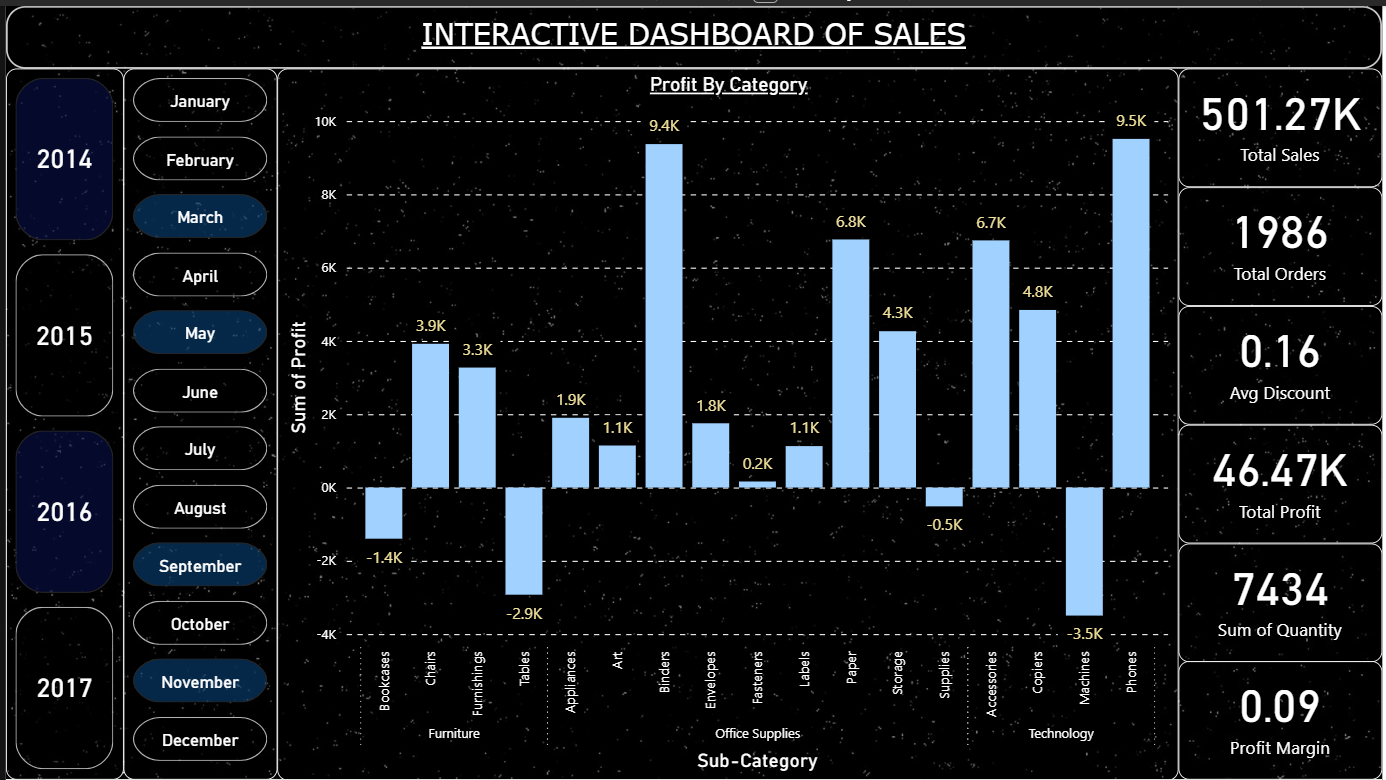

This screenshot's page, from the dashboard's own definition file:
{"tool":"powerbi","page":{"name":"Page 1","canvas":[1280,720],"ordinal":0},"visuals":[{"type":"textbox","box":[0,0,1280.3,57.6],"z":0},{"type":"card","fields":{"Values":["Superstore.Total Sales"]},"box":[1090.7,58.1,189.5,110.5],"z":1000},{"type":"card","fields":{"Values":["Superstore.Total Orders"]},"box":[1090.7,168.6,189.5,110.5],"z":2000},{"type":"card","fields":{"Values":["Superstore.Avg Discount"]},"box":[1090.7,279.1,189.5,110.5],"z":3000},{"type":"card","fields":{"Values":["Superstore.Total Profit"]},"box":[1090.7,389.5,189.5,110.5],"z":4000},{"type":"columnChart","title":"Profit By Category","fields":{"Category":["Superstore.Category","Superstore.Sub-Category"],"Y":["Sum(Superstore.Profit)"]},"box":[252.3,58.1,838.4,662.8],"z":5000},{"type":"advancedSlicerVisual","fields":{"Values":["Superstore.Order Date.Variation.Date Hierarchy.Year"]},"box":[0,58.1,109.3,661.6],"z":6000},{"type":"advancedSlicerVisual","fields":{"Values":["Superstore.Order Date.Variation.Date Hierarchy.Month"]},"box":[109.3,58.1,143,661.6],"z":7000},{"type":"card","fields":{"Values":["Sum(Superstore.Quantity)"]},"box":[1090.7,500,189.5,110.5],"z":8000},{"type":"card","fields":{"Values":["Superstore.Profit Margin"]},"box":[1090.7,609.3,189.5,110.5],"z":9000}]}

Visuals, with their boxes in screenshot pixels (x1, y1, x2, y2), scaled from the page's 1280x720 canvas onto the 1386x780 screenshot:
textbox: crop(0, 0, 1385, 62)
card - Superstore.Total Sales: crop(1181, 63, 1385, 183)
card - Superstore.Total Orders: crop(1181, 183, 1385, 302)
card - Superstore.Avg Discount: crop(1181, 302, 1385, 422)
card - Superstore.Total Profit: crop(1181, 422, 1385, 542)
"Profit By Category" columnChart: crop(273, 63, 1181, 779)
advancedSlicerVisual - Superstore.Order Date.Variation.Date Hierarchy.Year: crop(0, 63, 118, 779)
advancedSlicerVisual - Superstore.Order Date.Variation.Date Hierarchy.Month: crop(118, 63, 273, 779)
card - Sum(Superstore.Quantity): crop(1181, 542, 1385, 661)
card - Superstore.Profit Margin: crop(1181, 660, 1385, 779)
